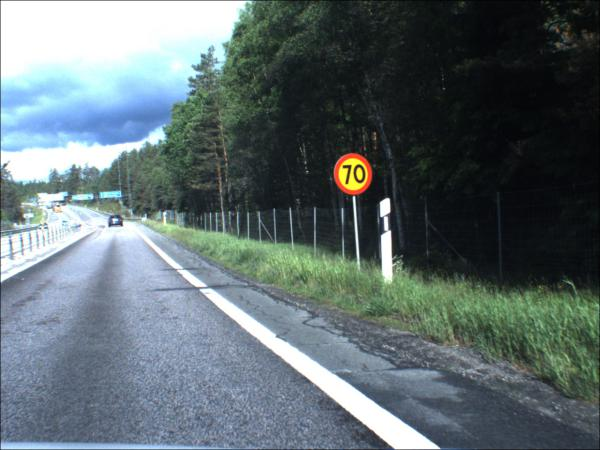70_SIGN: (335, 154, 374, 196)
